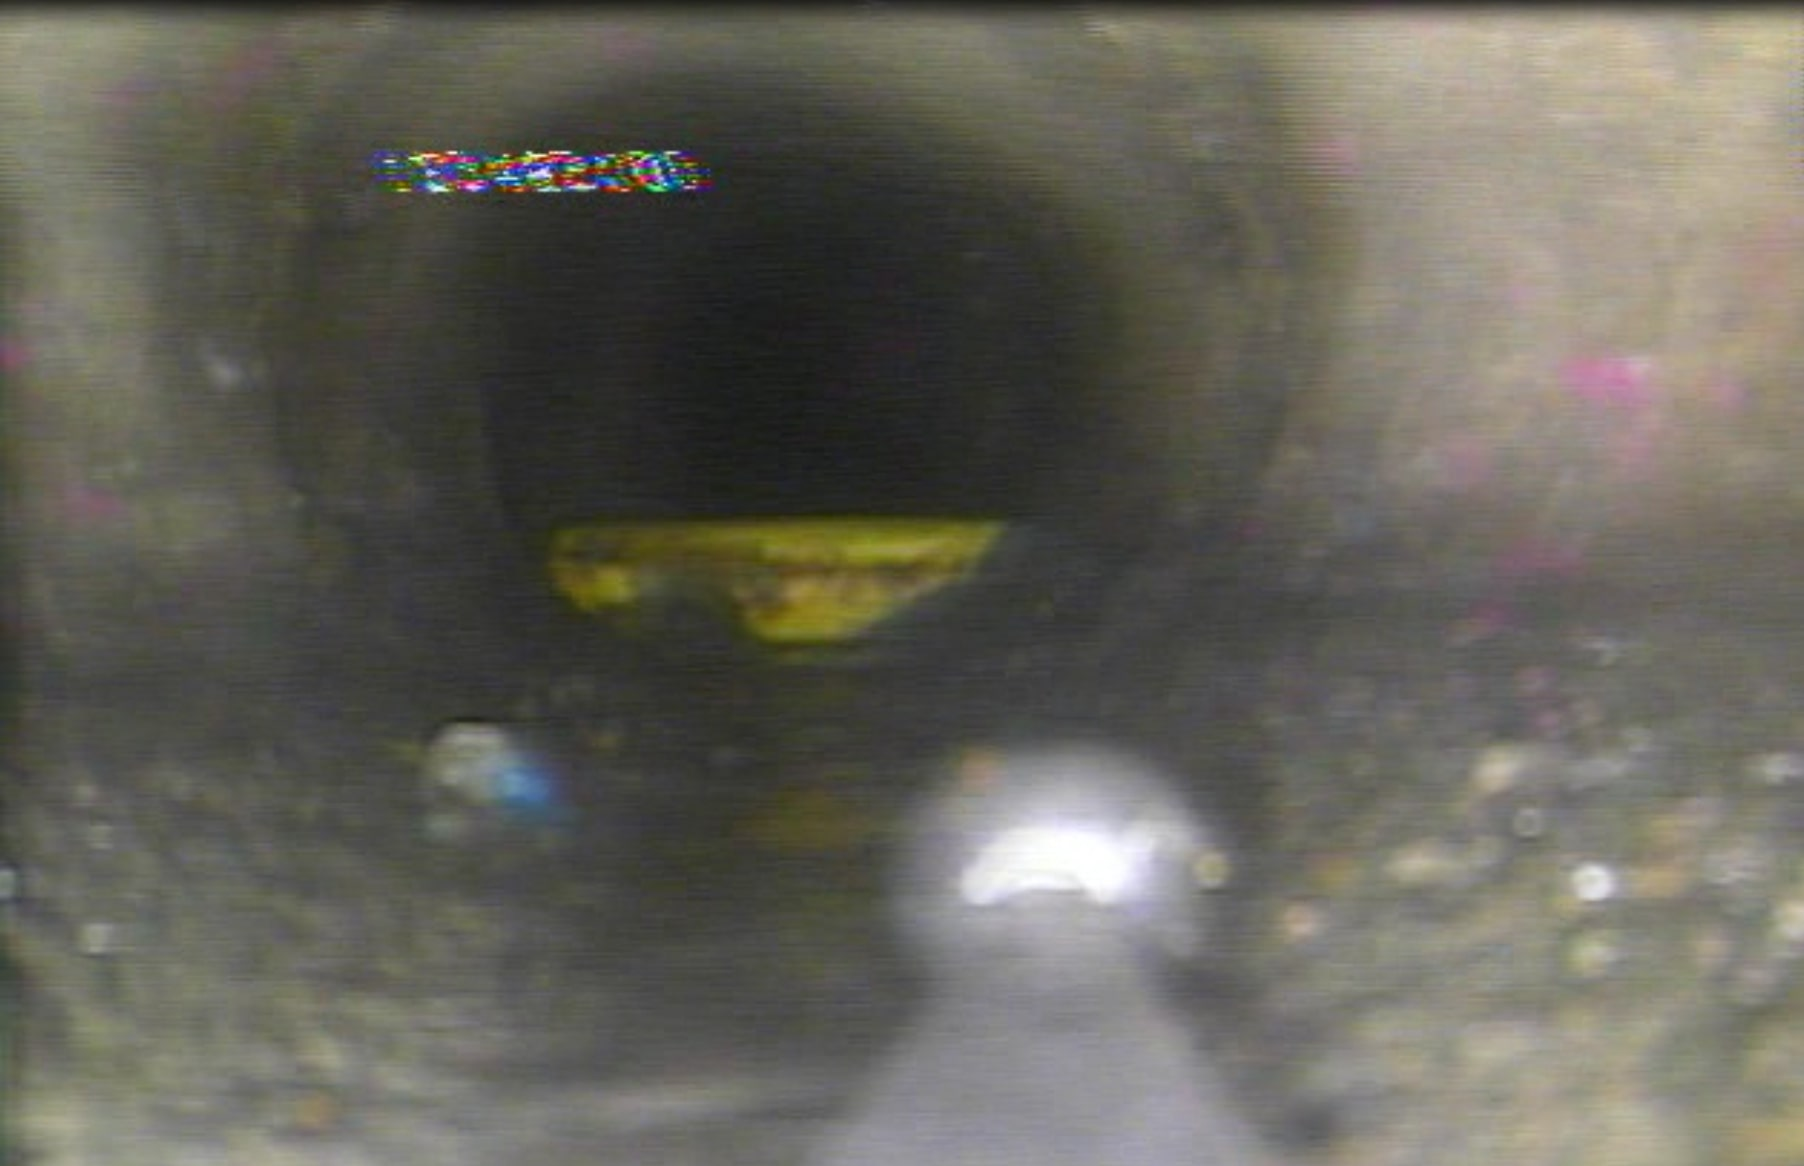cb: (490, 494, 1156, 680)
